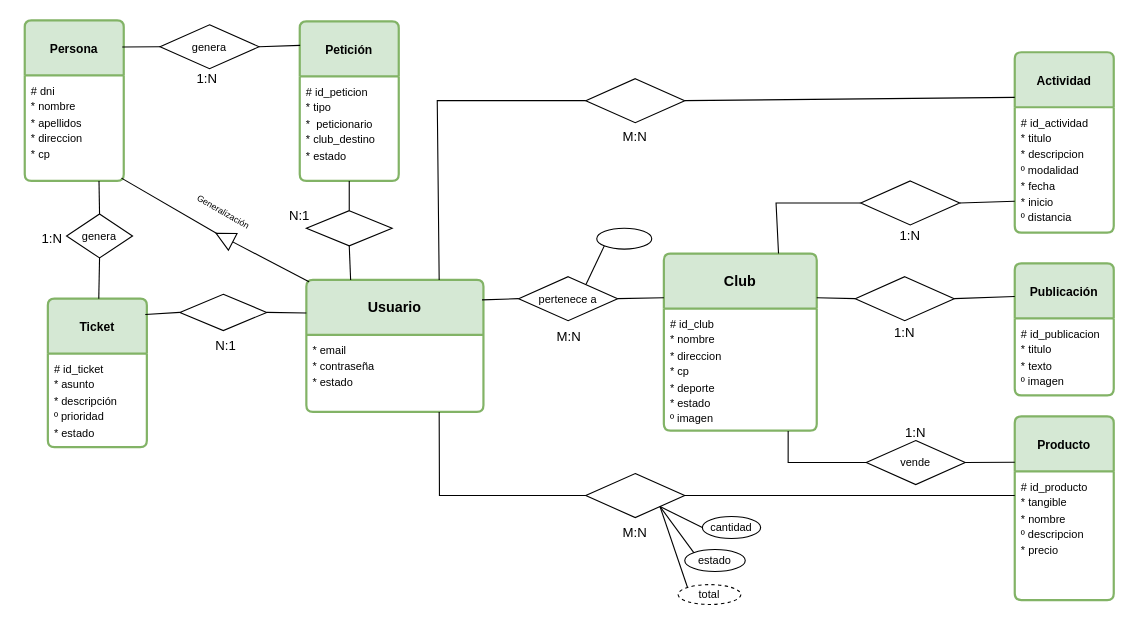
Some shapes in this 1133 by 624 pixel diagram are drawn without their labels. The shapes that lost their labels are listed below. From the top down, each one's centre as x and y in pixels, then its label:
At pixel 635 100: "está inscrito".
At pixel 910 202: "ofrece".
At pixel 348 228: "es validada".
At pixel 624 238: "rol".
At pixel 223 312: "es atendida".
At pixel 904 298: "publica".
At pixel 635 495: "Compra".
